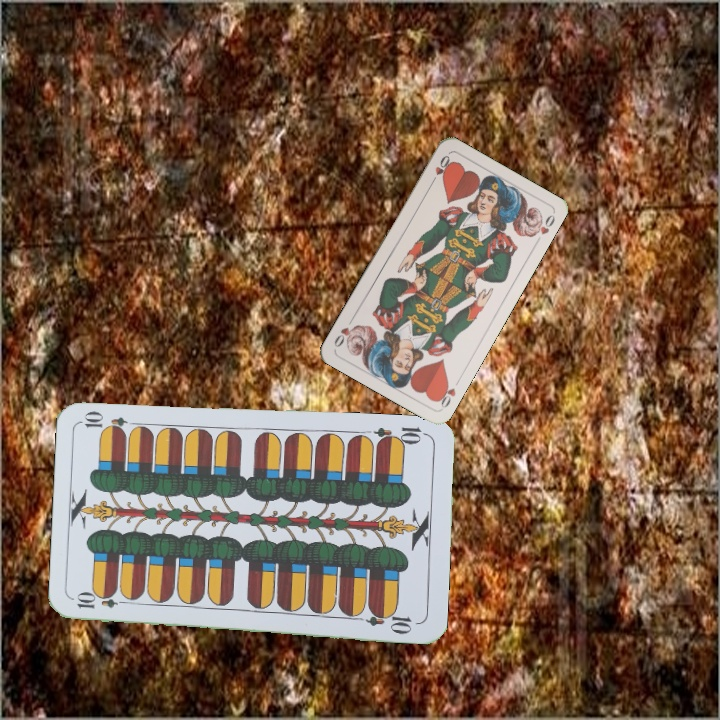E10: (371, 423, 430, 449), (73, 592, 132, 611)
HO: (426, 151, 453, 188), (433, 377, 458, 411)
